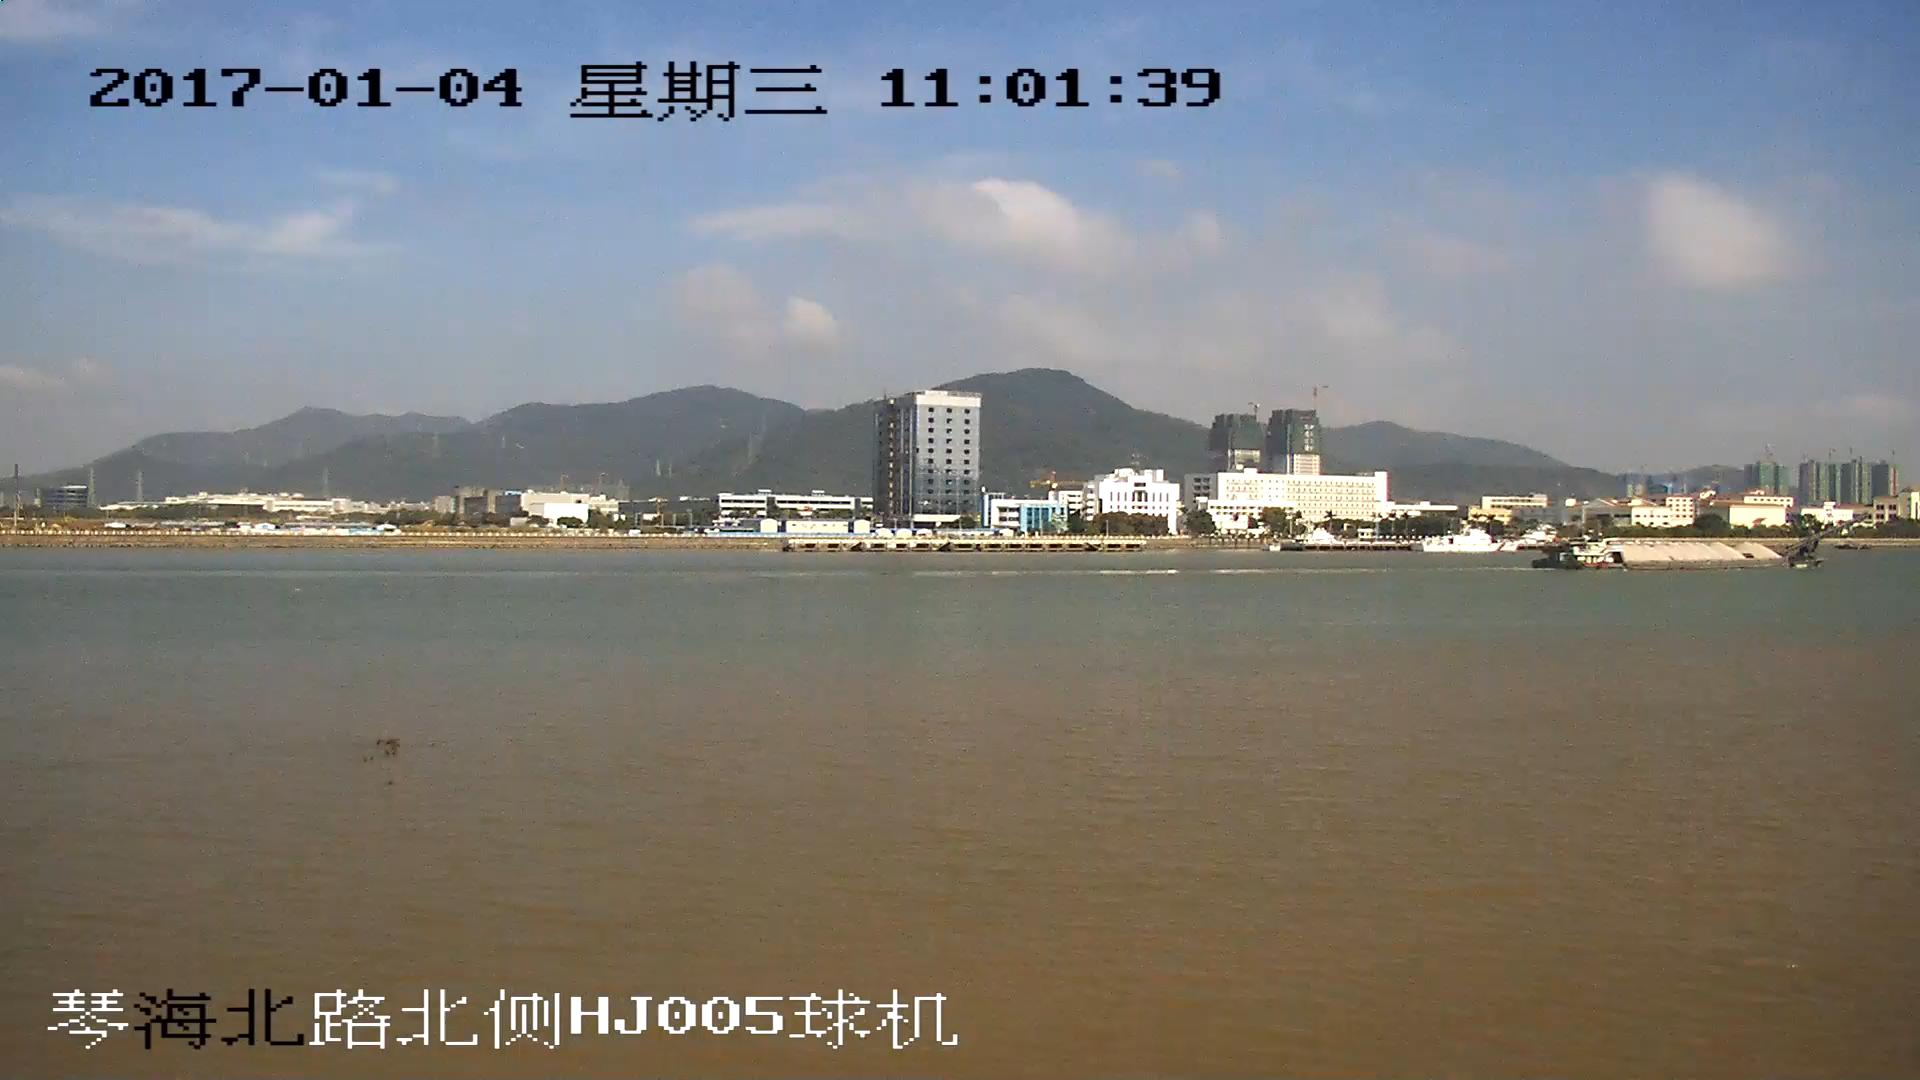ore carrier: (1538, 517, 1868, 569)
